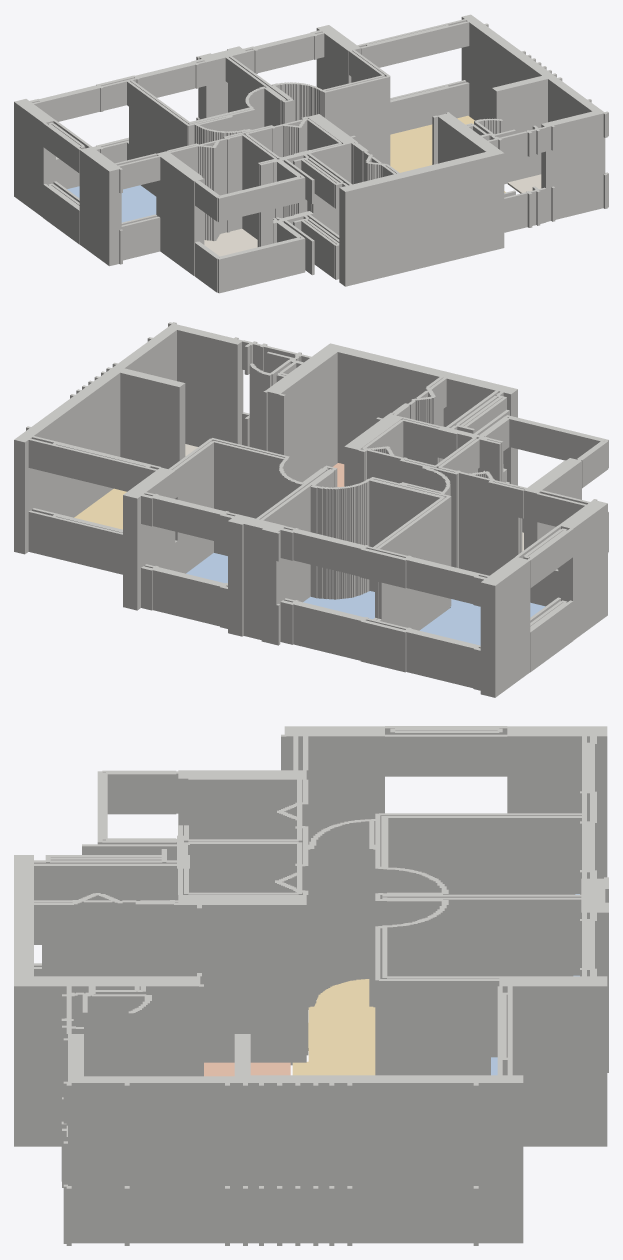
3 views of the same model, one above another, from view 1: azimuth 30°, elevation 25°; view 2: azimuth 150°, elevation 25°; view 3: azimuth 270°, elevation 25° (orthographic). The views are drawn at different scales.
Parts seen in each view (by area): view 1: walls, room:living:3, room:bedroom:2, room:other:7, room:other:8; view 2: walls, room:bedroom:2, room:living:3, room:bedroom:0, room:bedroom:1; view 3: walls, room:living:3, room:kitchen:6.
Boxes of the visible parts, x1,y1,x2,y2 form: walls: (14,14,608,293); room:living:3: (390,115,505,192); room:bedroom:2: (67,185,156,222); room:other:7: (204,228,257,256); room:other:8: (507,174,541,193); walls: (14,322,608,697); room:bedroom:2: (420,599,545,645); room:living:3: (74,488,126,529); room:bedroom:0: (303,591,374,619); room:bedroom:1: (186,553,227,583); walls: (14,726,608,1245); room:living:3: (292,979,375,1075); room:kitchen:6: (204,1062,290,1076).
Bounding box in the file's own units: 13.46 × 2.8 × 9.42.
